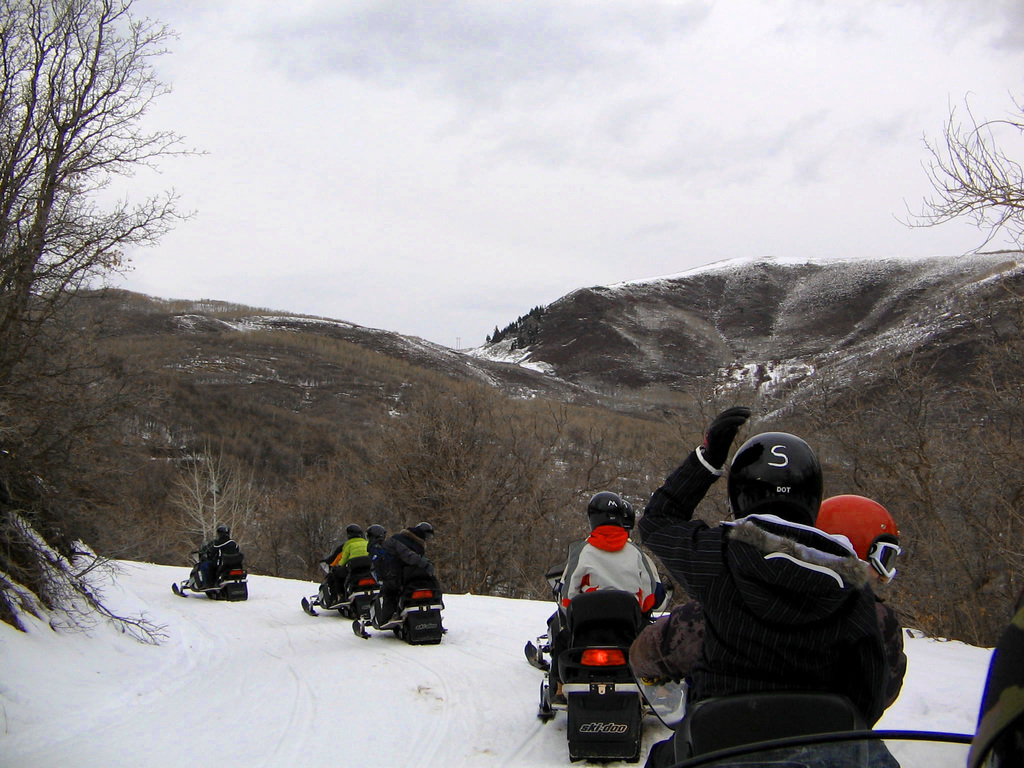Tree: (0, 0, 1024, 646)
